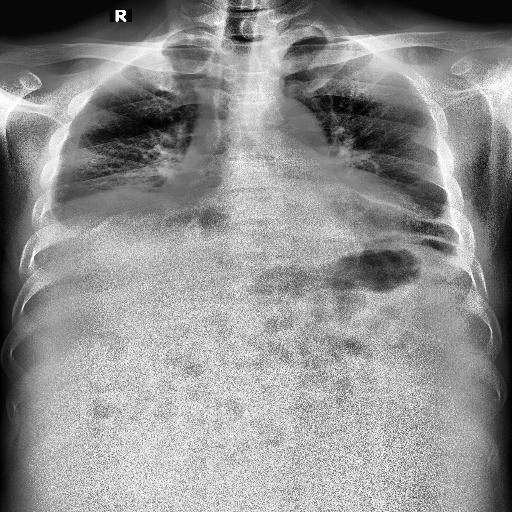0- Aortic enlargement: (247, 97, 328, 154)
10- Pleural effusion: (427, 227, 465, 263), (40, 190, 72, 227)
11- Pleural thickening: (427, 227, 465, 263), (40, 190, 72, 227)
13- Pulmonary fibrosis: (330, 168, 456, 230), (360, 191, 450, 223)
3- Cardiomegaly: (166, 176, 425, 242)
7- Lung Opacity: (46, 194, 204, 280), (360, 191, 450, 223)
9- Other lesion: (46, 194, 204, 280)
